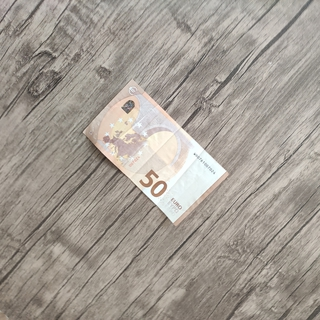50EUROBack: (81, 77, 231, 228)
